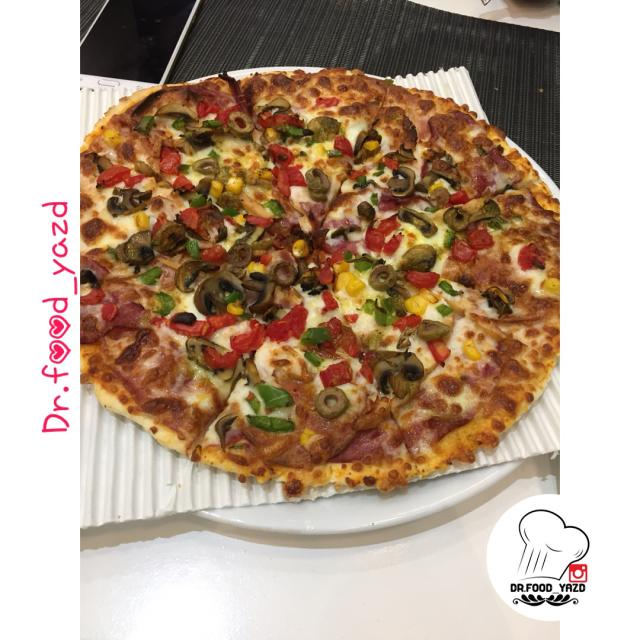mushrooms: (373, 347, 429, 410), (187, 332, 240, 386), (441, 196, 499, 232), (192, 269, 239, 313), (244, 264, 283, 311), (103, 178, 149, 216), (211, 409, 240, 457), (396, 202, 438, 235), (175, 260, 215, 294), (154, 99, 196, 129), (125, 229, 156, 269), (480, 280, 513, 316), (384, 158, 414, 197), (398, 242, 432, 271)
peppers: (268, 140, 305, 200), (270, 302, 308, 345), (449, 227, 487, 267), (315, 259, 340, 316), (246, 409, 292, 438), (230, 321, 268, 355), (365, 217, 399, 255), (168, 312, 210, 341), (260, 372, 292, 410), (302, 326, 328, 372), (328, 320, 363, 354), (97, 162, 139, 190), (516, 236, 548, 272), (202, 303, 238, 334), (182, 202, 211, 237), (206, 343, 240, 372), (365, 295, 394, 328), (405, 264, 438, 292), (158, 145, 185, 178), (376, 153, 409, 179), (322, 359, 353, 386), (238, 205, 266, 230), (338, 132, 361, 162), (131, 114, 158, 139), (150, 292, 173, 318), (275, 120, 305, 139), (171, 173, 194, 196), (142, 264, 160, 290), (269, 197, 287, 220), (187, 238, 201, 263), (191, 192, 210, 210), (201, 116, 222, 132), (255, 106, 272, 125), (220, 203, 238, 220), (172, 117, 185, 133)
pizza: (79, 67, 561, 503)
